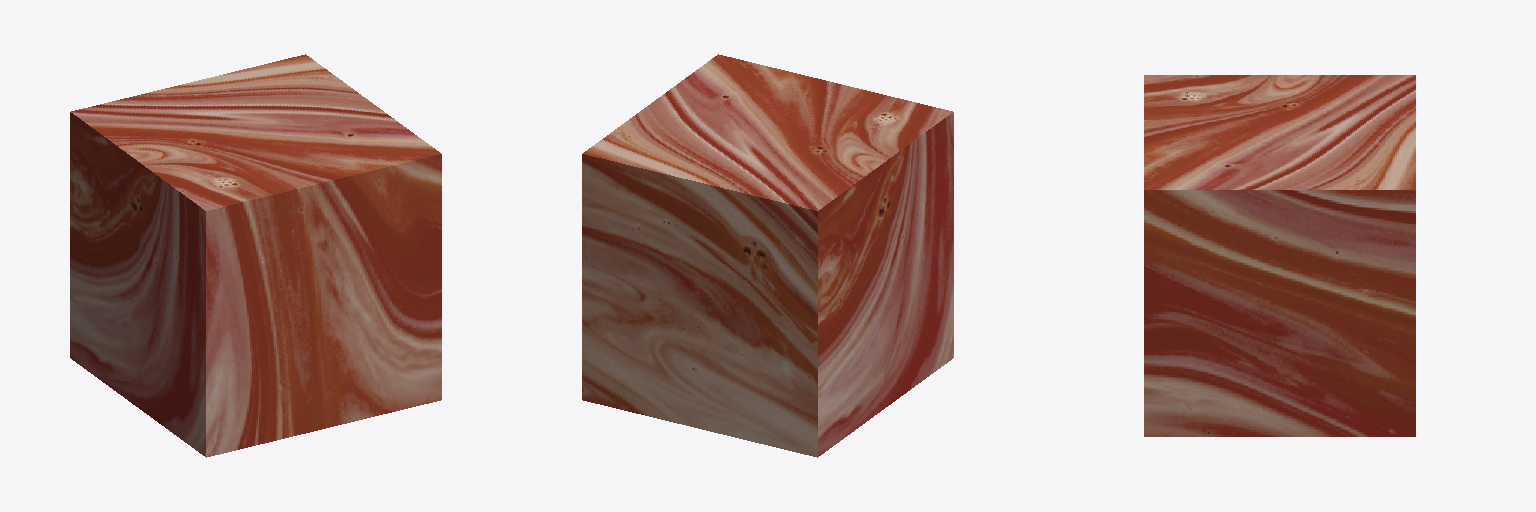
The picture shows the model from 3 angles: view 1: azimuth 30°, elevation 25°; view 2: azimuth 150°, elevation 25°; view 3: azimuth 270°, elevation 25°; orthographic projection.
Parts seen in each view (by area): view 1: Cube; view 2: Cube; view 3: Cube.
Boxes of the visible parts, <box> form: Cube: <box>70,54,441,457</box>; Cube: <box>582,54,953,457</box>; Cube: <box>1144,75,1415,436</box>.
Bounding box in the file's own units: 5 × 5 × 5.
Materials: 1 (1 with a texture image).